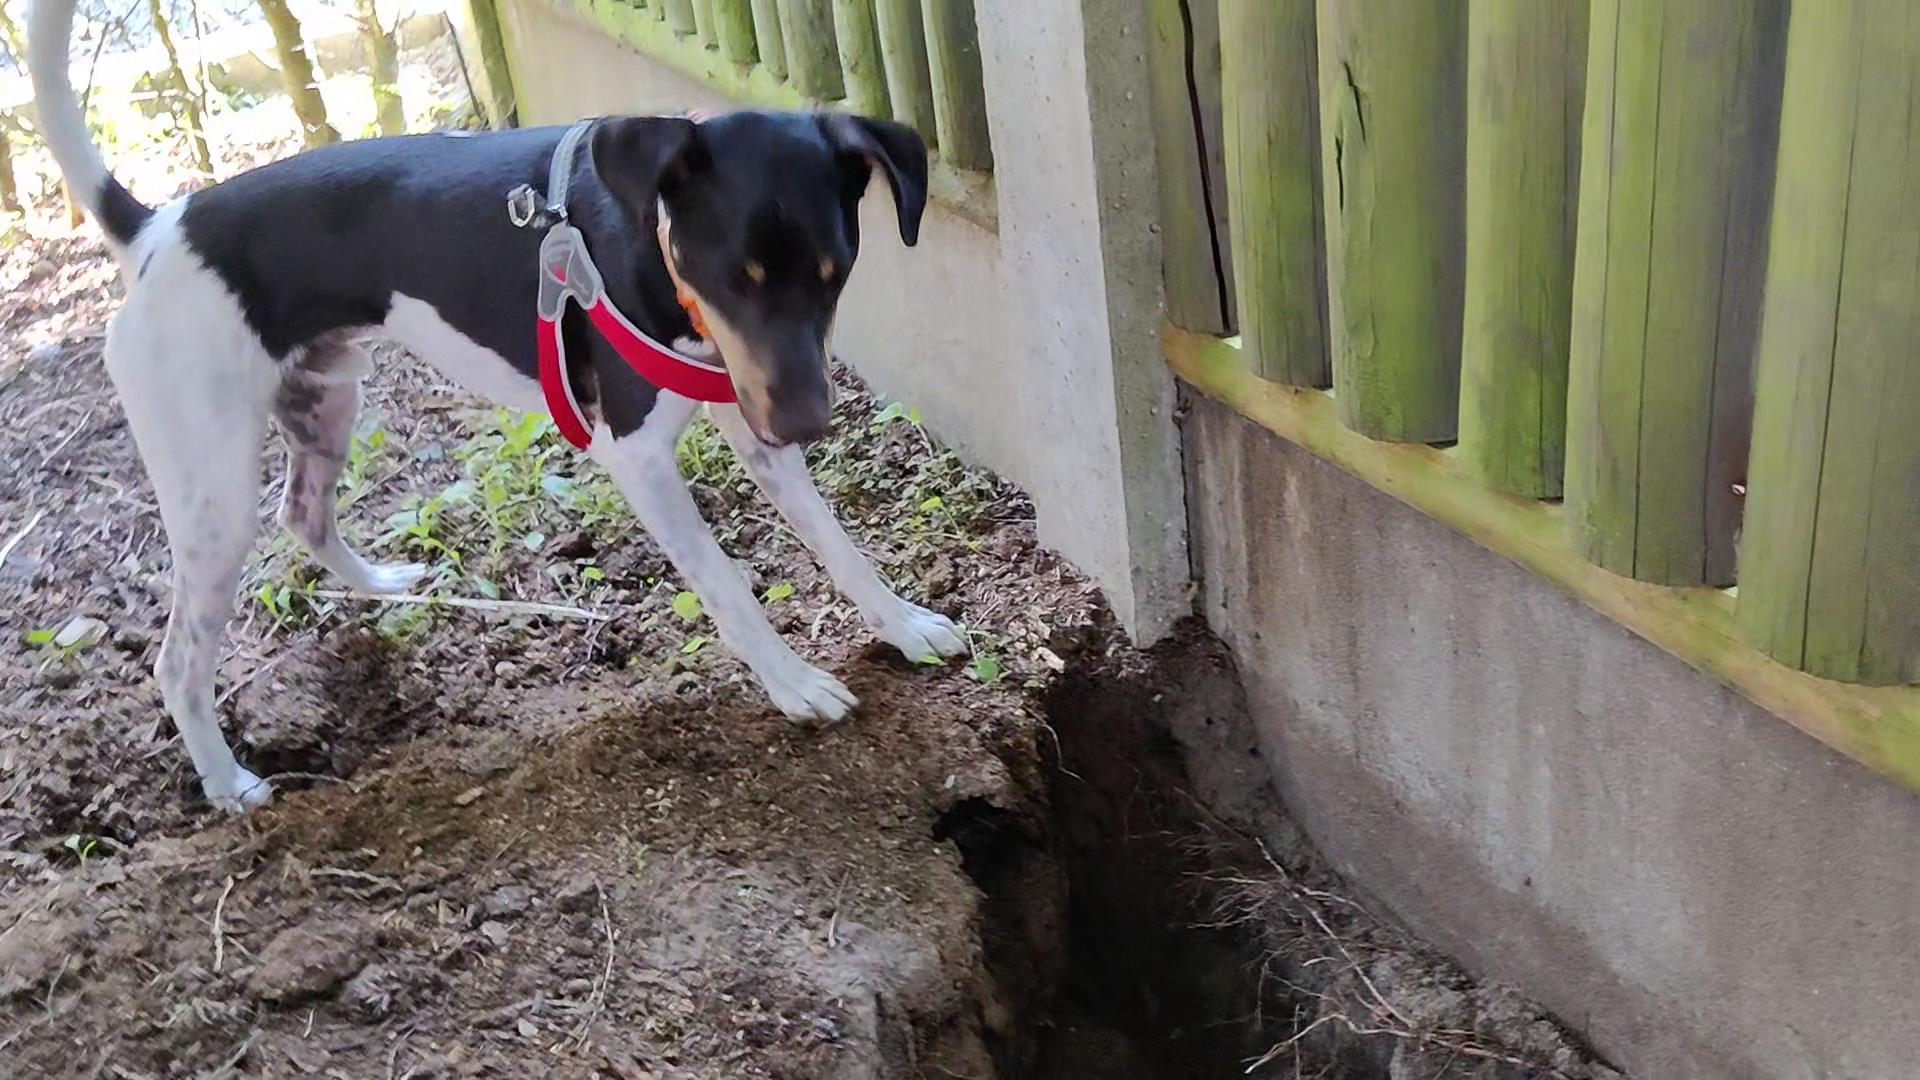Dog: (20, 0, 1000, 822)
